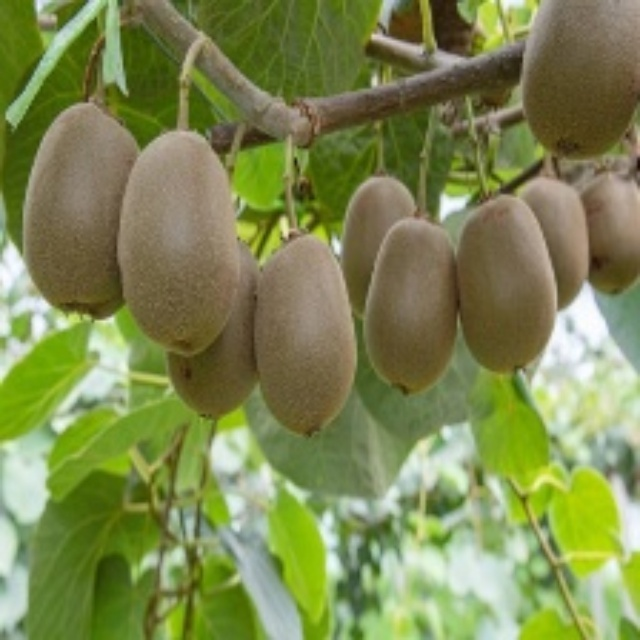kiwi: (447, 157, 593, 380), (334, 171, 462, 393), (123, 137, 229, 354), (26, 105, 134, 312), (257, 225, 354, 451), (512, 1, 639, 169), (176, 232, 260, 422), (575, 144, 639, 295)
